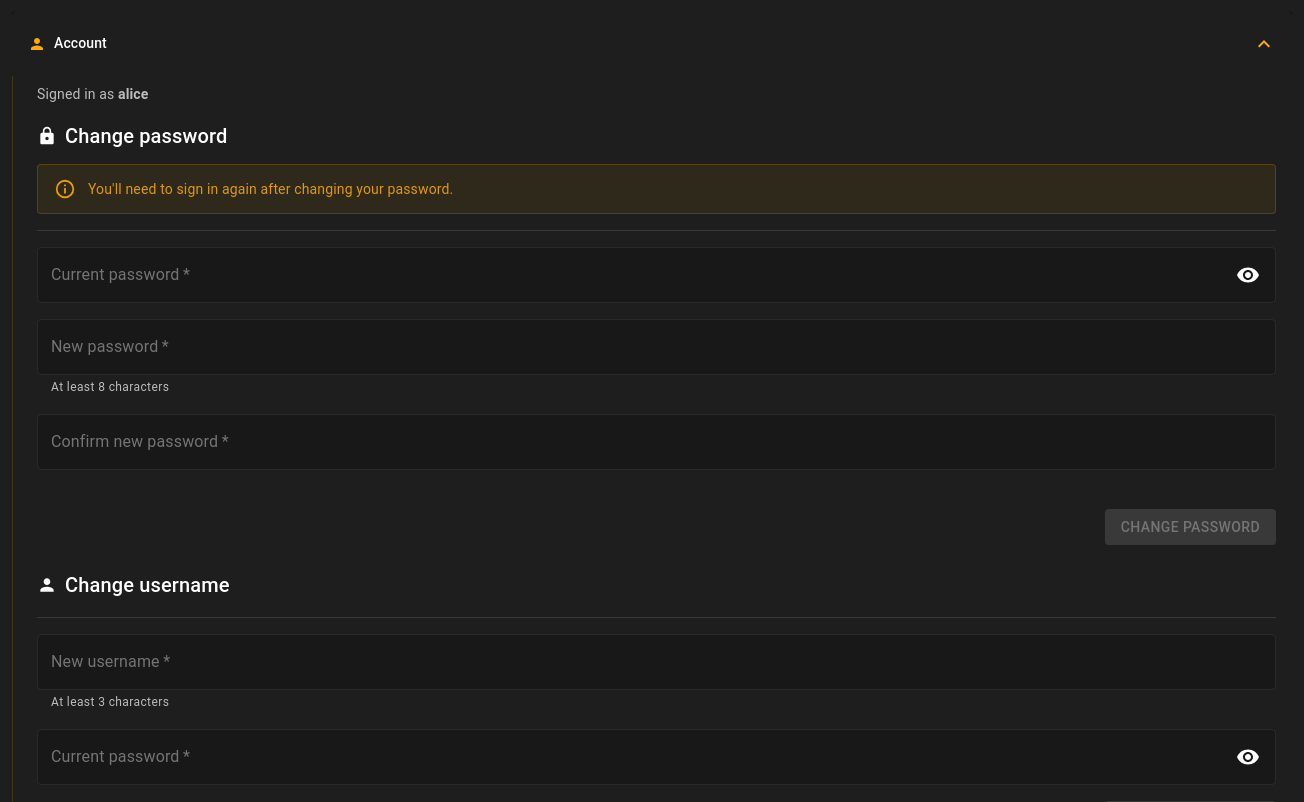
AccountAccordion › Change password button is enabled when all fields are valid
This screenshot has width=1304, height=802.
Step 1. Type "oldpass" into the 1st password field labelled "Current password *" → (630, 275), box [37, 247, 1223, 303]
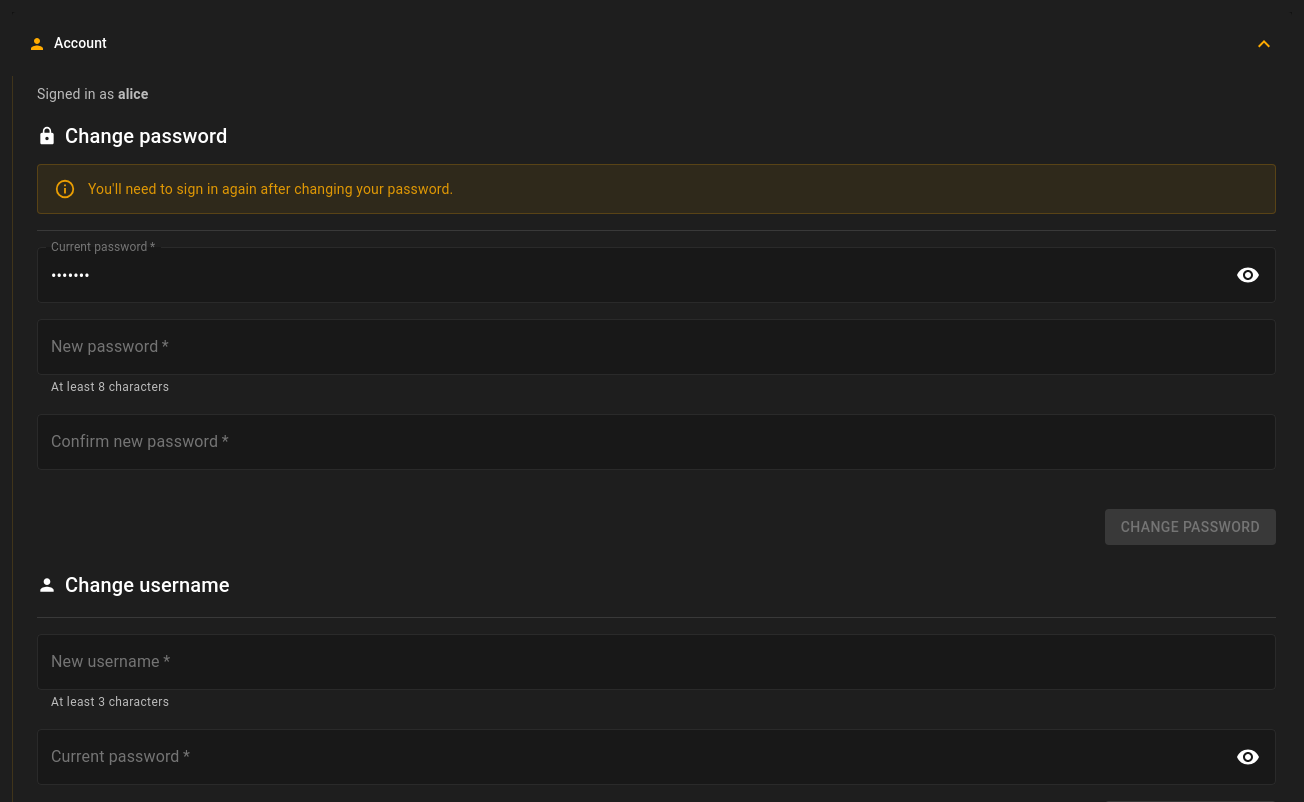
Step 2. Type "newpassword123" into the password field labelled "New password *" → (656, 347), box [37, 319, 1276, 375]
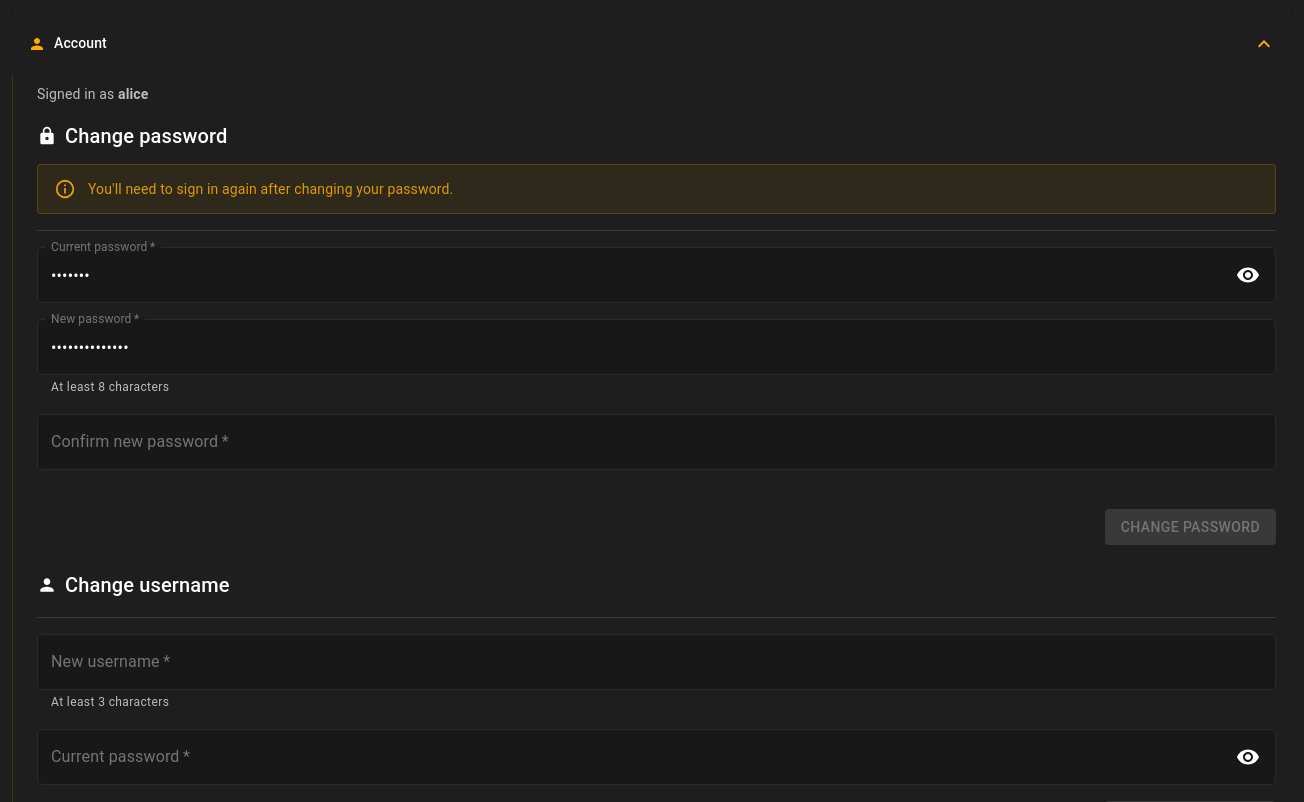
Step 3. Type "newpassword123" into the password field labelled "Confirm new password *" → (656, 442), box [37, 414, 1276, 470]
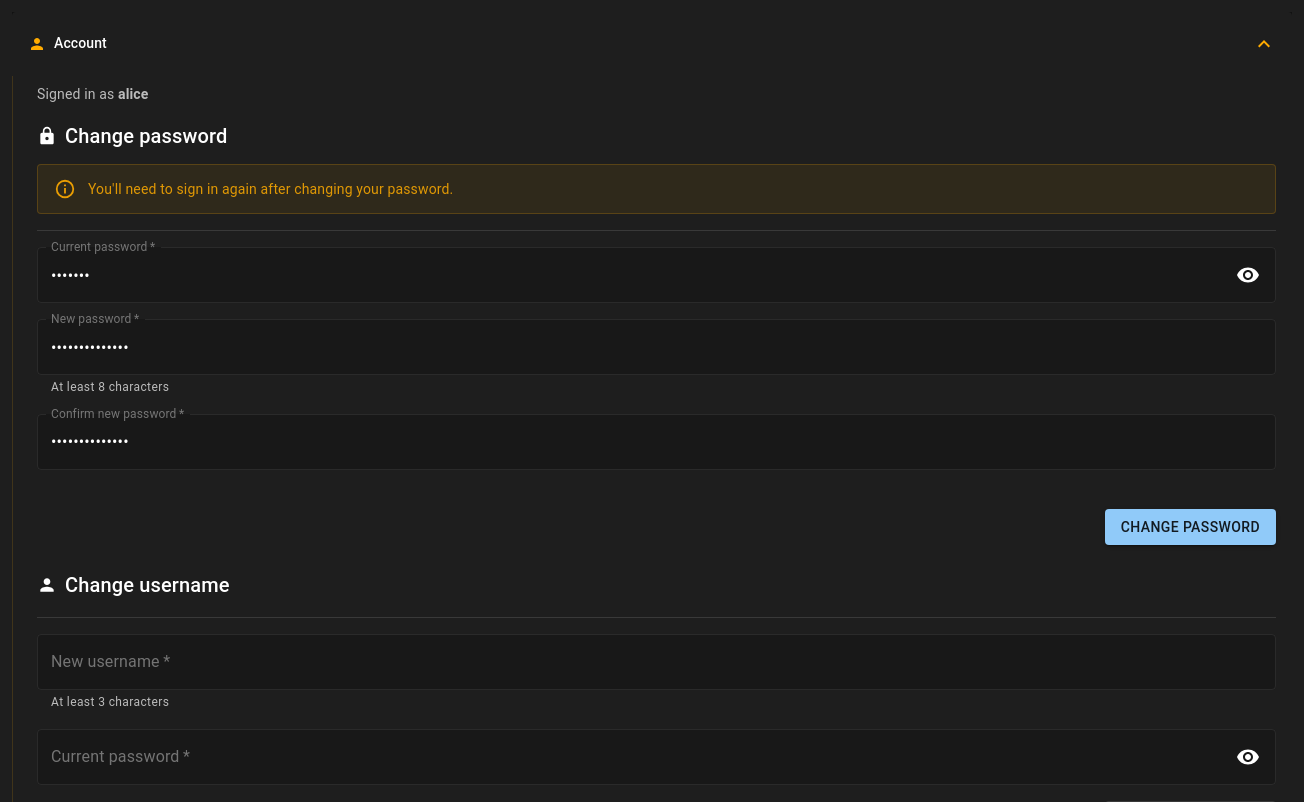
expect the button "Change password" is enabled: met, box [1105, 509, 1276, 545]
